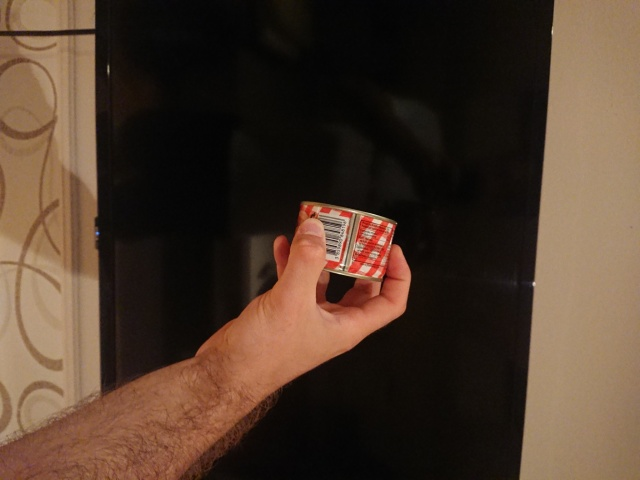Podravka Luncheon Meat 150g: (287, 198, 401, 284)
